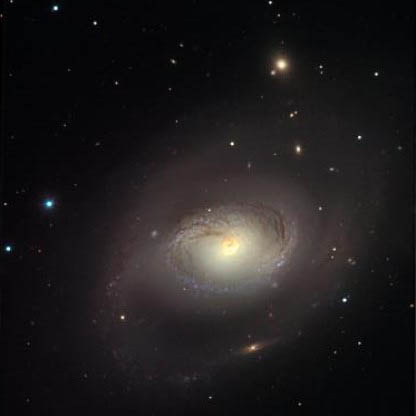Messier 96: (95, 115, 384, 385)
